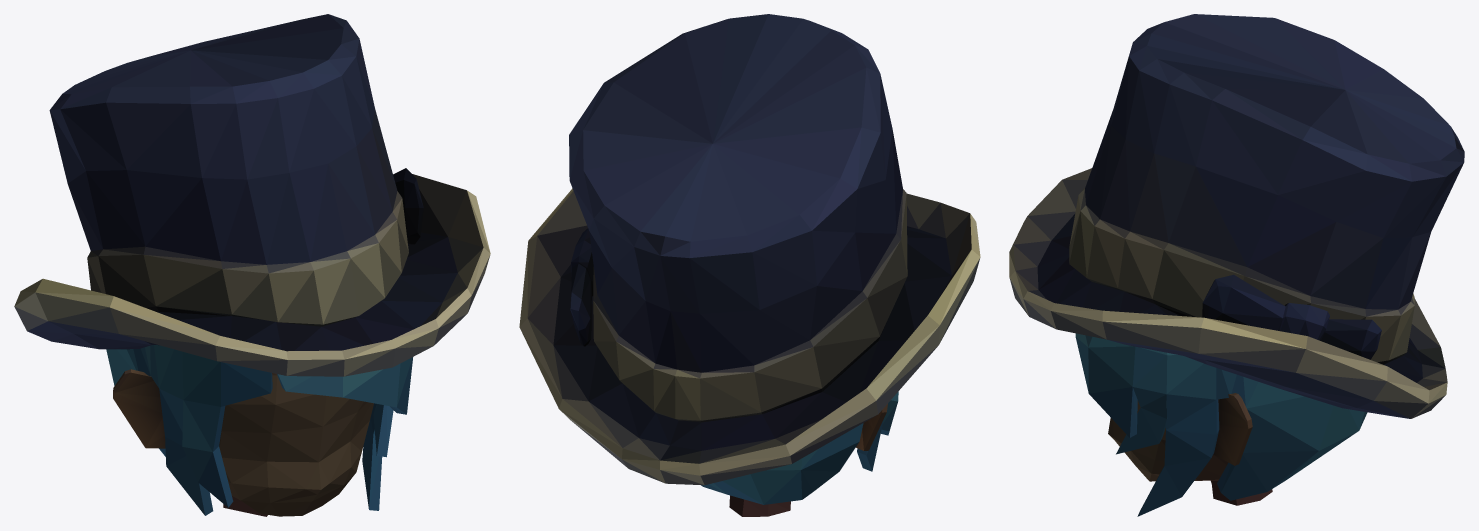
The model's file is helm_darkskin_ponytail_blue_tophat.fbx.
3 views of the same model, side by side, from view 1: azimuth 30°, elevation 25°; view 2: azimuth 150°, elevation 25°; view 3: azimuth 270°, elevation 25° (orthographic). The views are drawn at different scales.
Parts seen in each view (by area): view 1: helm_darkskin_ponytail_blue_tophat; view 2: helm_darkskin_ponytail_blue_tophat; view 3: helm_darkskin_ponytail_blue_tophat.
Part boxes in pixels (left/top/right/bottom): helm_darkskin_ponytail_blue_tophat: left=14, top=14, right=490, bottom=516; helm_darkskin_ponytail_blue_tophat: left=519, top=14, right=980, bottom=516; helm_darkskin_ponytail_blue_tophat: left=1009, top=14, right=1464, bottom=516.
Size of the model in its own units: 1.67 by 1.86 by 1.69.
